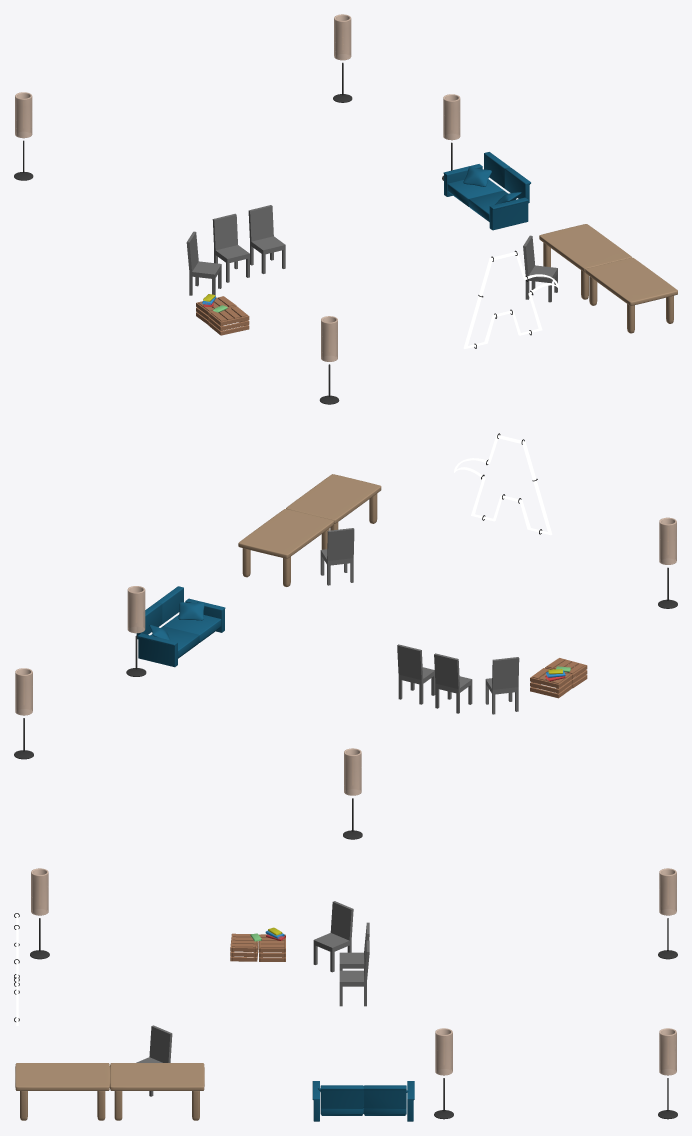
3 renders of one model, top to bottom at view 1: azimuth 30°, elevation 25°; view 2: azimuth 150°, elevation 25°; view 3: azimuth 270°, elevation 25°, orthographic. The views are drawn at different scales.
Visible parts, largest first — view 1: Deko_2x3 suburb I; view 2: Deko_2x3 suburb I; view 3: Deko_2x3 suburb I.
Part boxes in pixels (box(x1,y1,x2,y2)): Deko_2x3 suburb I: box(14, 14, 677, 404); Deko_2x3 suburb I: box(14, 433, 677, 839); Deko_2x3 suburb I: box(14, 868, 677, 1121).
Size of the model in its own units: 7.98 by 2.48 by 12.62.
6 materials, 1 textured.
